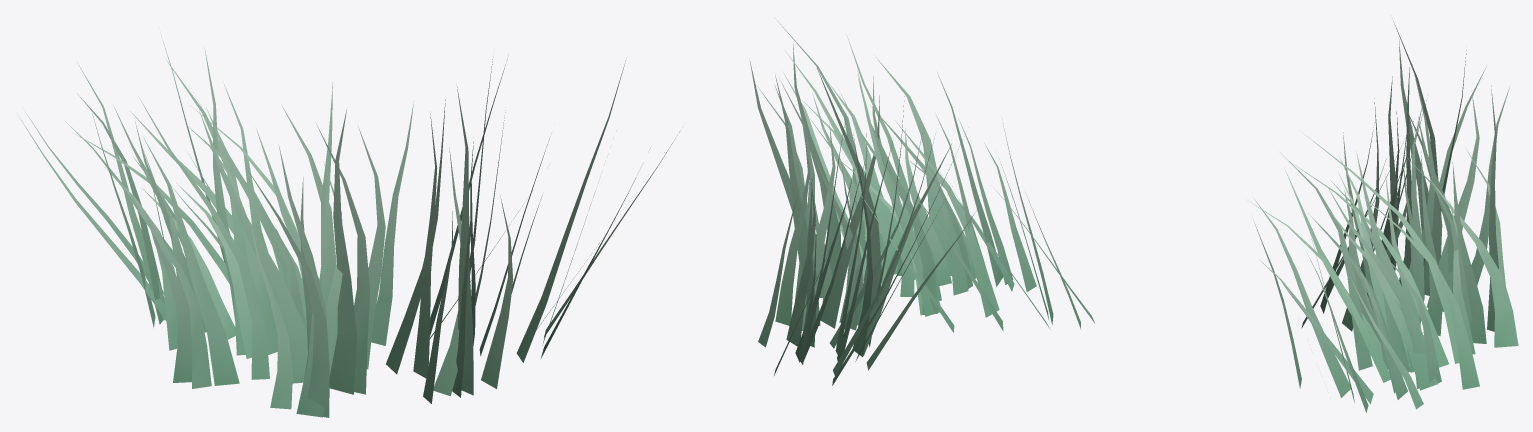
File: mesh-plant-012-bubbletip-tuft_LOD1.glb
The picture shows the model from 3 angles, left to right: view 1: azimuth 30°, elevation 25°; view 2: azimuth 150°, elevation 25°; view 3: azimuth 270°, elevation 25°; orthographic projection. The views are drawn at different scales.
Parts seen in each view (by area): view 1: geometry_0; view 2: geometry_0; view 3: geometry_0.
Boxes of the visible parts, x1,y1,x2,y2 form: geometry_0: [17, 36, 679, 417]; geometry_0: [749, 17, 1095, 385]; geometry_0: [1247, 21, 1518, 412].
Bounding box in the file's own units: 1.55 × 0.7789 × 1.11.
